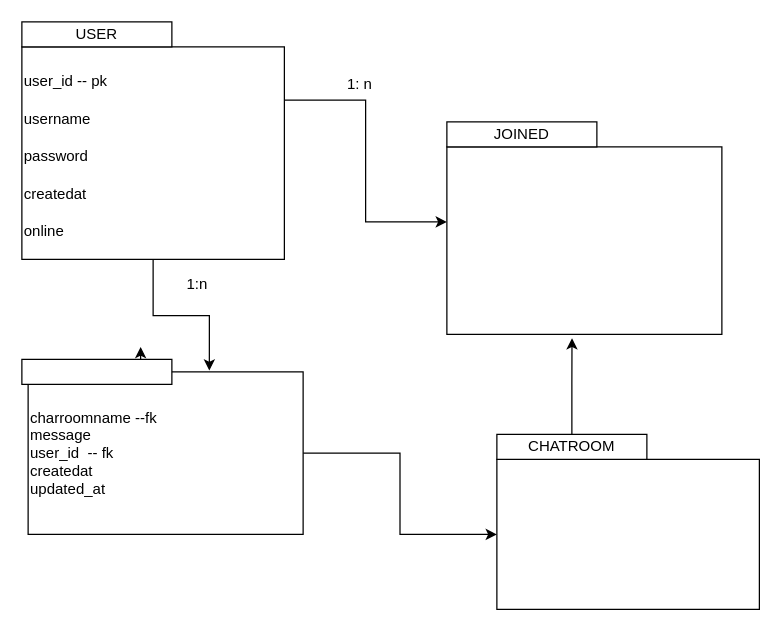
The diagram is 781 pixels wide and 631 high, and some of its shapes have lost their labels. Here are the shapes that lost their labels. From the top down, the centre of each, then its label:
the point at 584,240: joinid -- pk user_id --fk chatroomname --fk role
the point at 96,371: MESSAGE
the point at 627,533: chatroomname --pk member created
